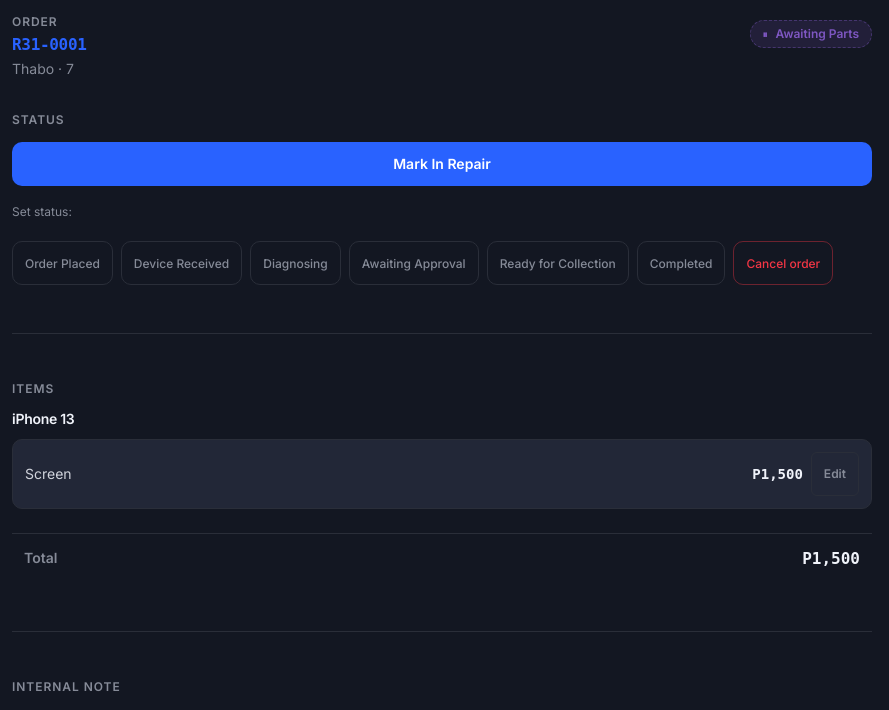
Test: OrderManager › shows a primary action for awaiting_parts that targets in_repair
The image size is (889, 710).
Click the button "Mark In Repair" at coordinates (442, 164), box [12,142,872,186]
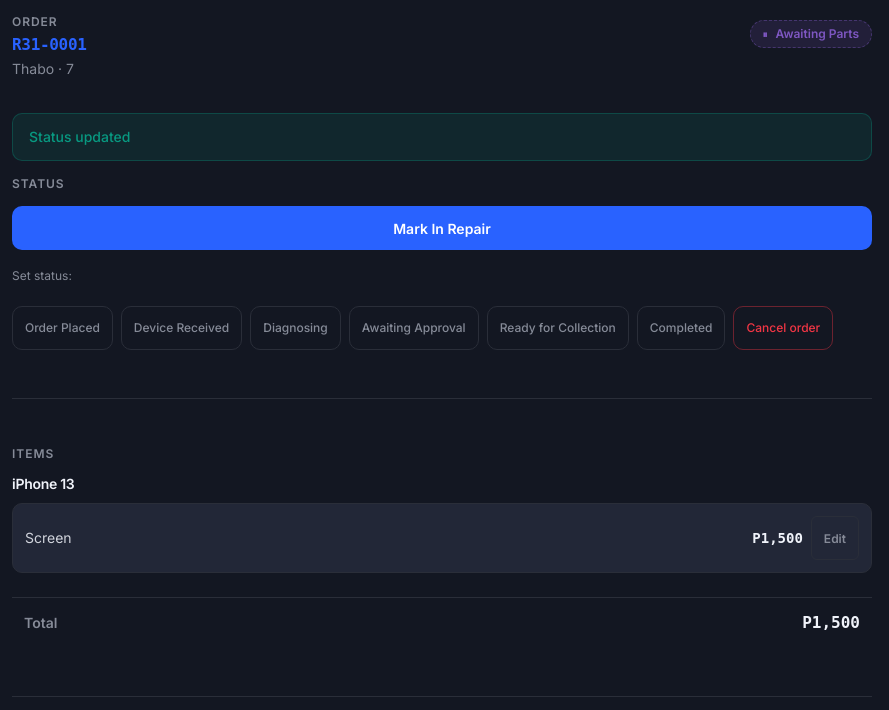
expect the text "Status updated" is shown: met, box [12,113,872,161]
